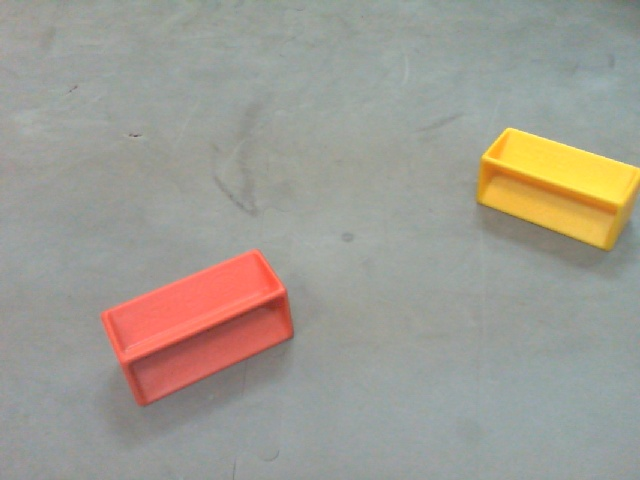RedSample: (101, 249, 293, 409)
YellowSample: (476, 122, 640, 252)
